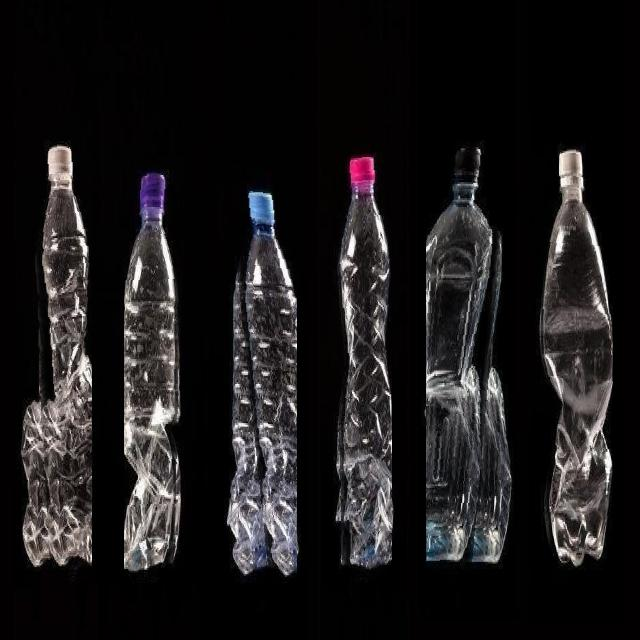plastic bottle: (426, 139, 510, 569), (538, 140, 613, 570), (25, 140, 92, 574), (228, 182, 297, 580), (333, 151, 392, 576), (124, 167, 183, 578)
